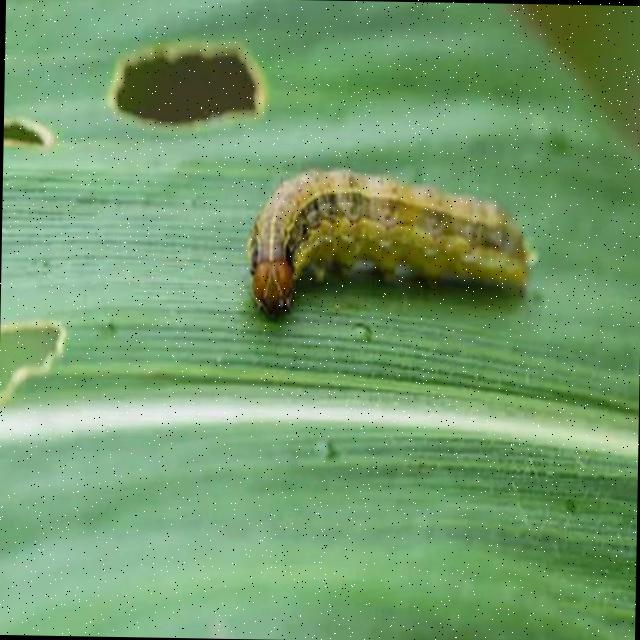worm: (246, 164, 542, 326)
